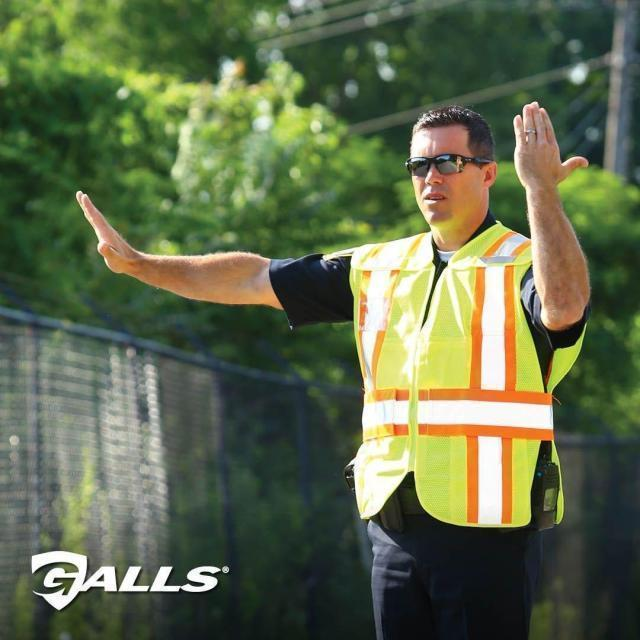no-helmet: (397, 98, 507, 188)
vest: (348, 219, 584, 534)
